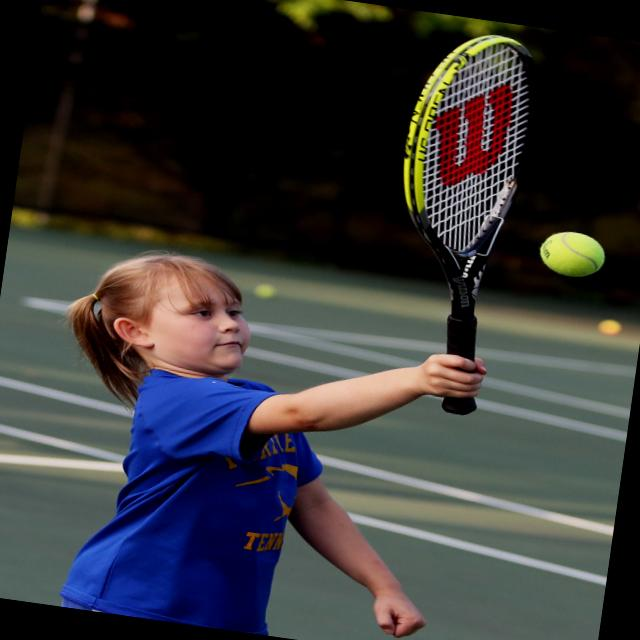Tennis Ball: (536, 228, 610, 278), (596, 318, 622, 340), (253, 281, 278, 299)
